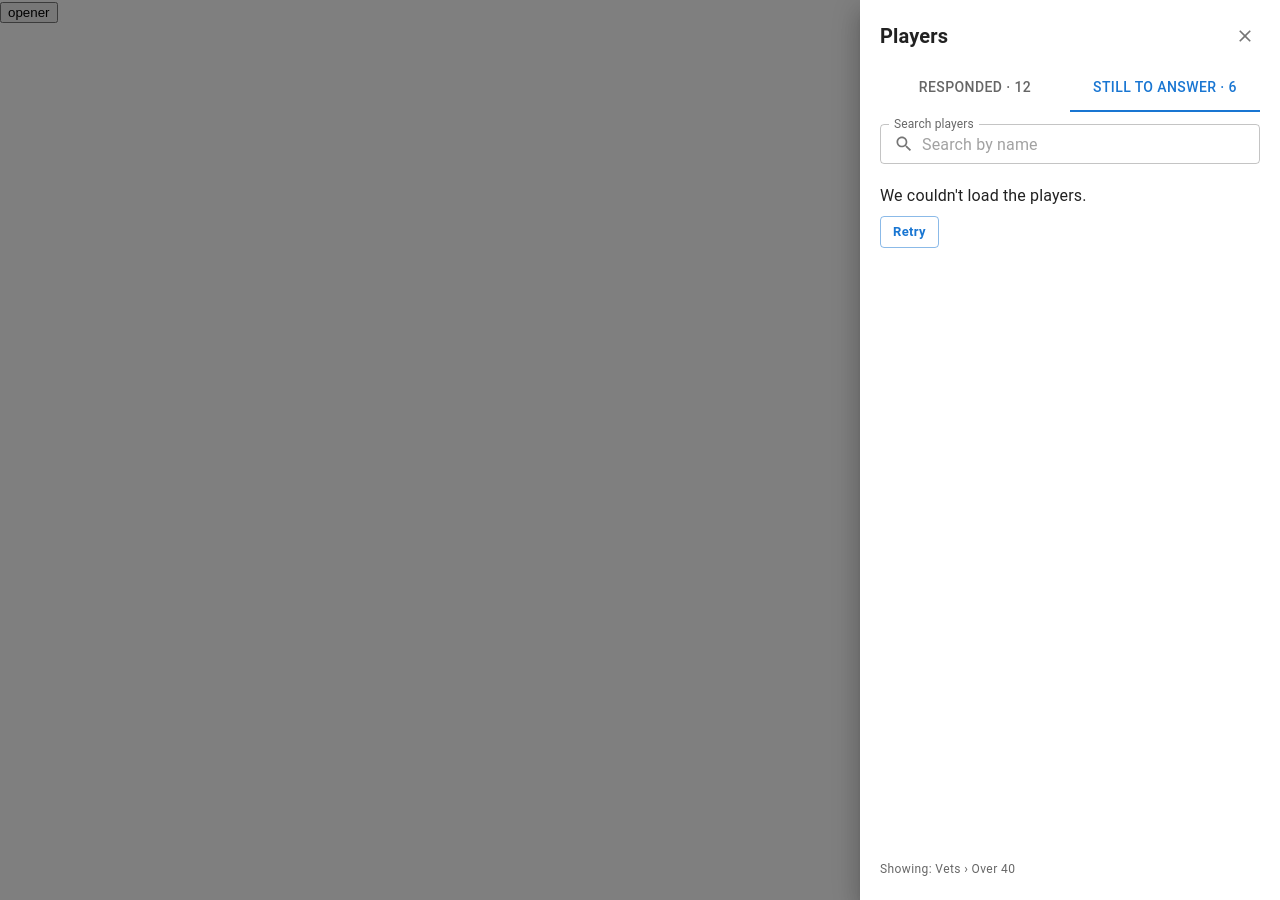
Test: PlayersPanel (084) › shows an error with Retry inside the panel, and Retry reloads
Expected: the text "We couldn't load the players." is shown, top-left (880, 184), bottom-right (1086, 208)
Click the button "Retry": (910, 232) top-left (880, 216), bottom-right (939, 248)
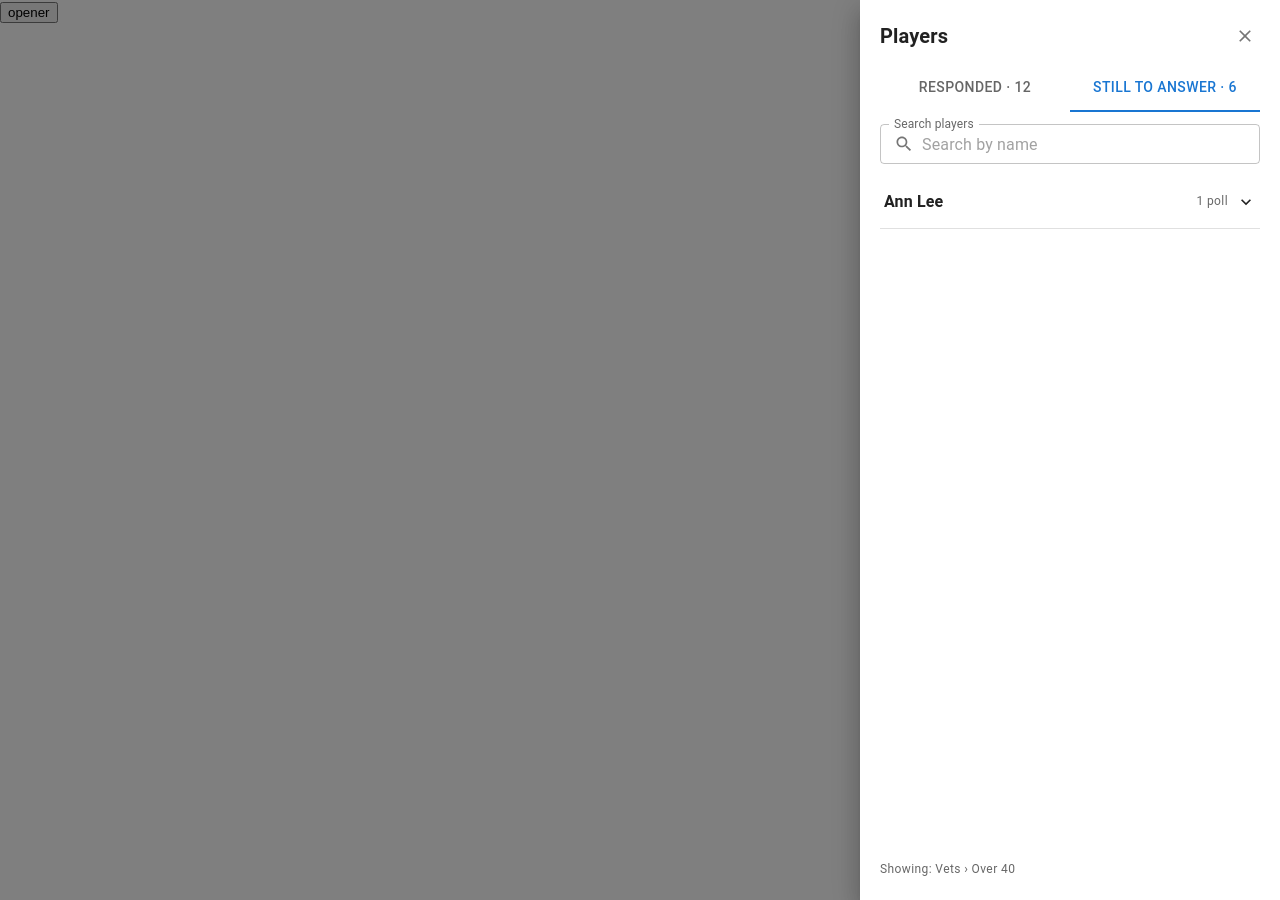
Now the text "Ann Lee" is shown, box top-left (884, 192), bottom-right (943, 211)
